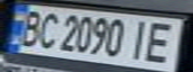0: (106, 16, 130, 58), (75, 12, 93, 55)
2: (54, 11, 81, 53)
9: (90, 14, 112, 56)
B: (12, 7, 45, 48)
C: (33, 9, 63, 50)
E: (139, 18, 187, 64)
I: (124, 17, 157, 62)
